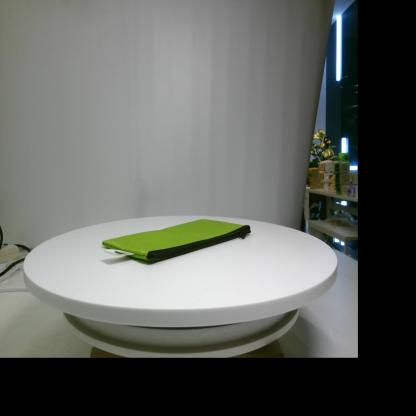Stationery: (102, 219, 251, 261)
